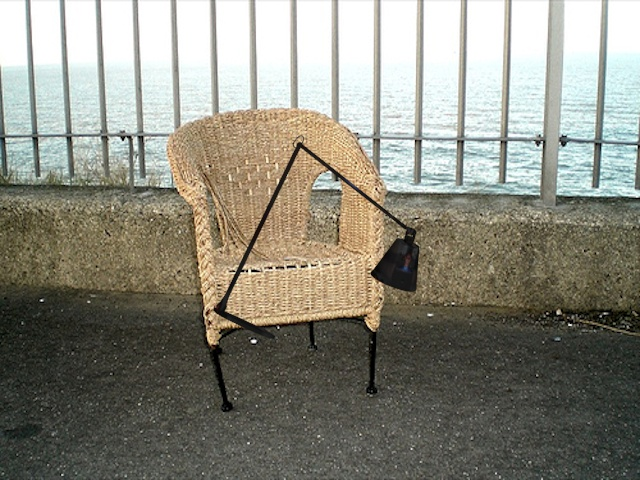desk_lamp: (208, 129, 424, 344)
